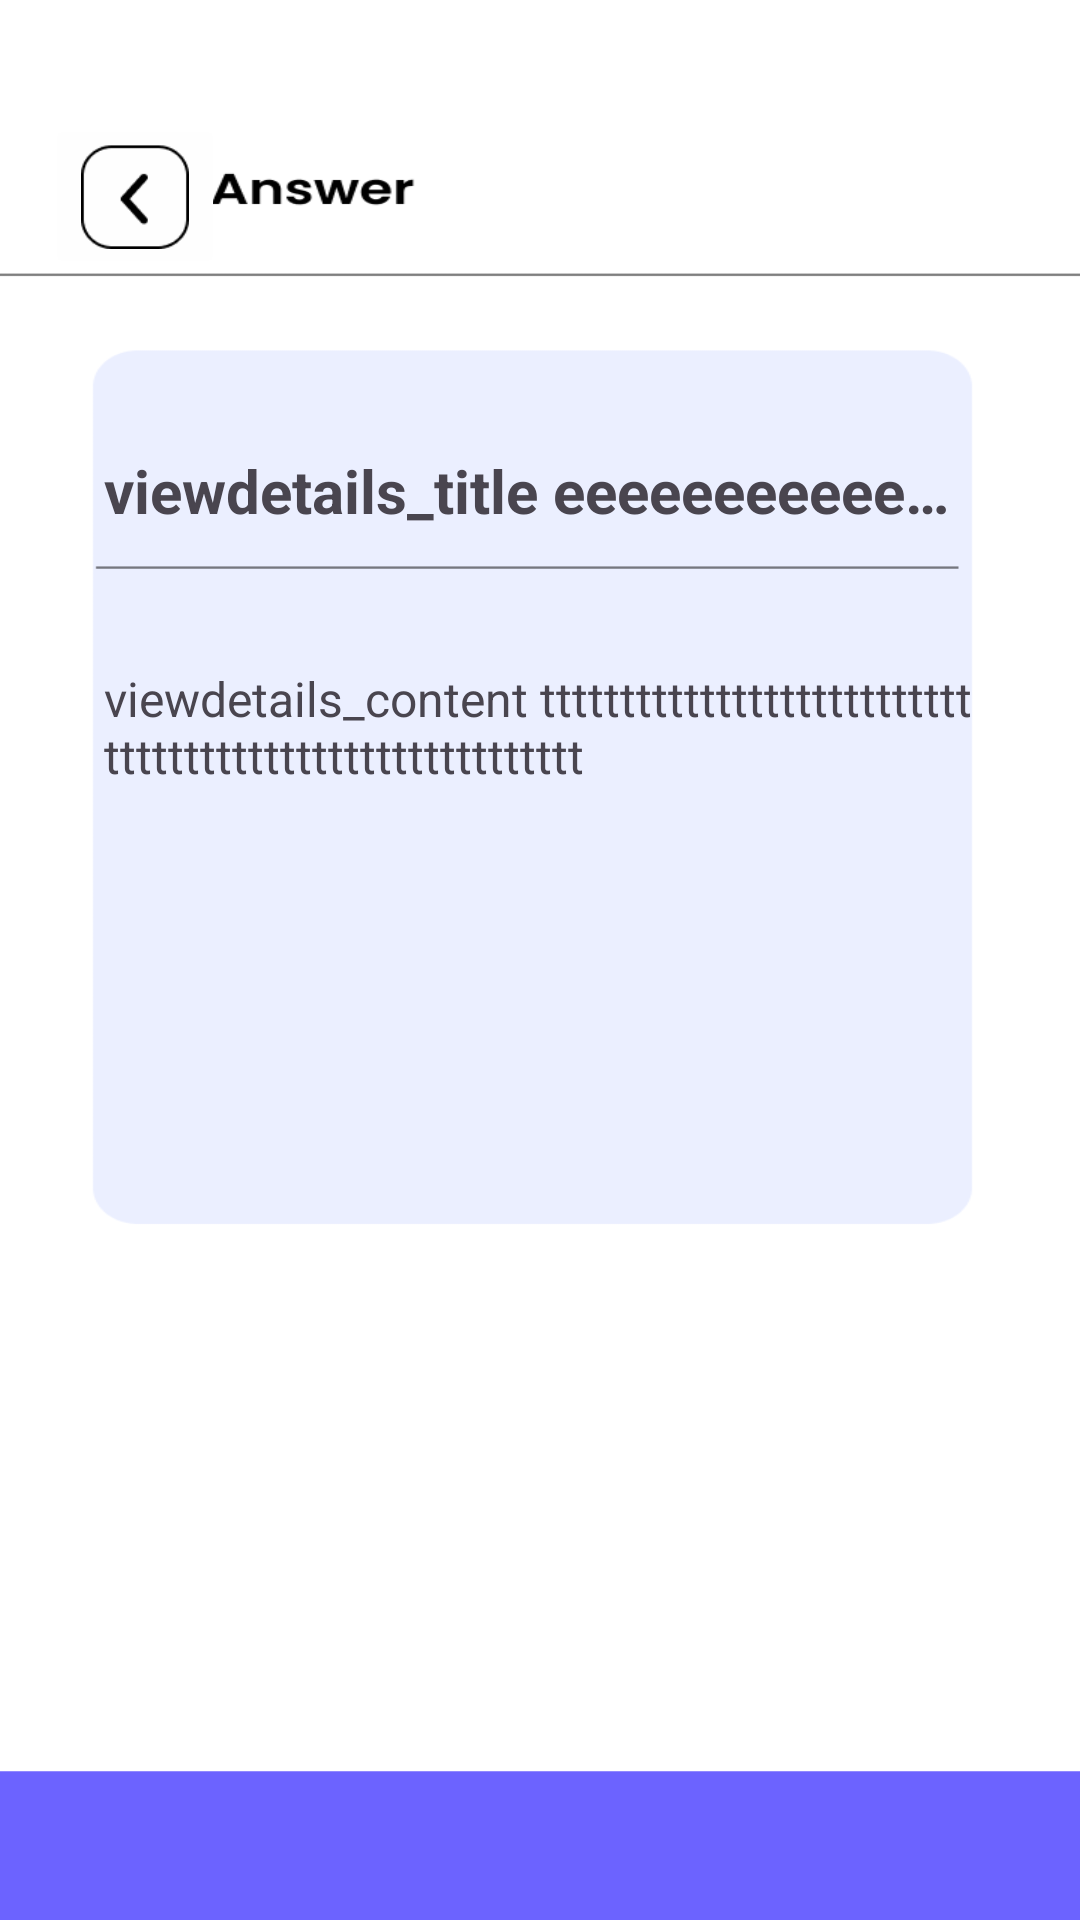

Named icons in this screenshot (1080w x 1920h) and their centers, (x=x, y=y):
qanda viewdetails finish: (x=135, y=197)
